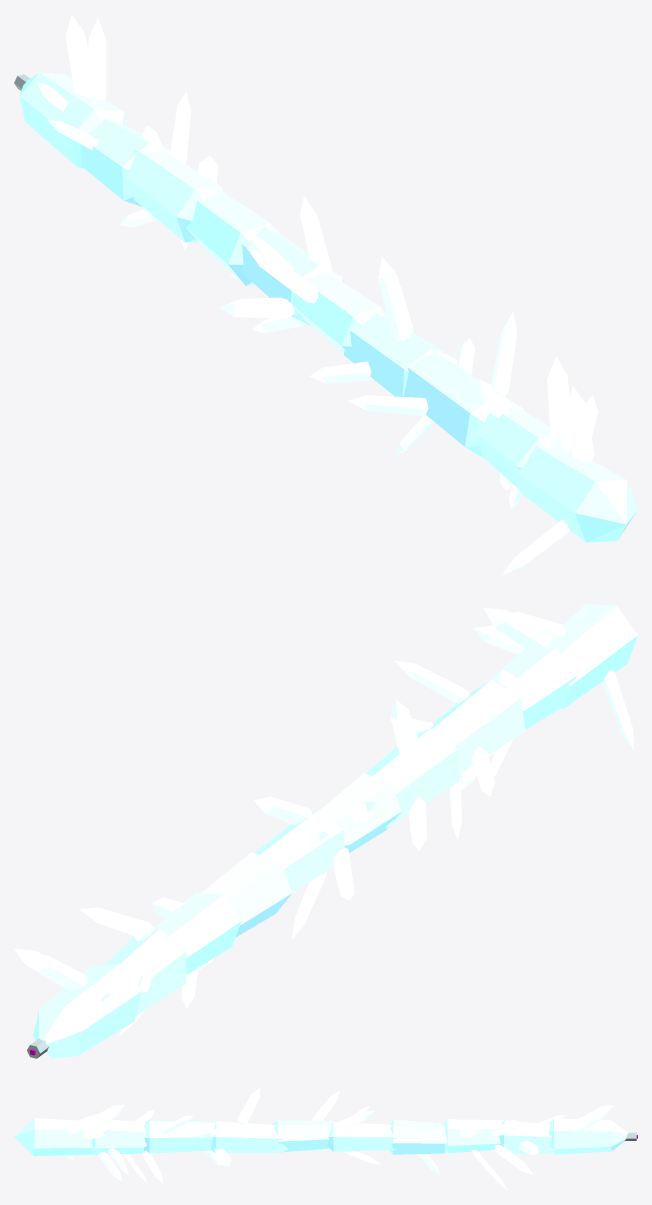
File: IceBeam.fbx
3 views of the same model, one above another, from view 1: azimuth 30°, elevation 25°; view 2: azimuth 150°, elevation 25°; view 3: azimuth 270°, elevation 25° (orthographic). The views are drawn at different scales.
Visible parts, largest first — view 1: Crystal, Shards; view 2: Crystal, Shards; view 3: Crystal, Shards.
Boxes of the visible parts, x1,y1,x2,y2 form: Crystal: (19, 72, 637, 542); Shards: (37, 15, 597, 575); Crystal: (33, 604, 637, 1058); Shards: (14, 608, 633, 1036); Crystal: (14, 1118, 628, 1156); Shards: (63, 1087, 613, 1189).
Size of the model in its own units: 3.32 by 3.99 by 24.35.
